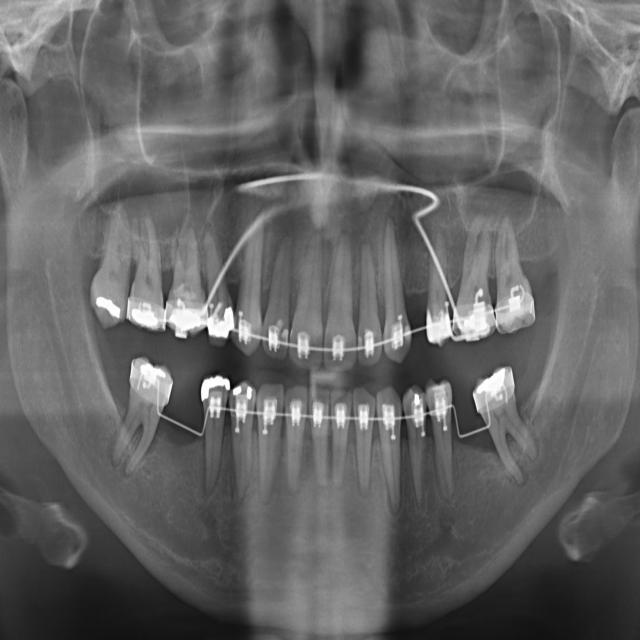3M ESPE Implant: (83, 194, 138, 331)
AGS Medikal Implant: (350, 242, 386, 364)
AMerOss Implant: (376, 224, 417, 360)
Anthogyr Implant: (426, 237, 454, 339)
Bicon Implant: (455, 218, 498, 335)
BioHorizons Implant: (476, 216, 538, 330)
Blue Sky Bio Implant: (470, 368, 543, 479)
Caries: (127, 220, 164, 330)
Composite filling: (428, 385, 453, 487)
Cowellmedi Implant: (406, 391, 427, 490)
Crown: (373, 387, 402, 512)
DENTSPLY Implant: (350, 388, 382, 495)
Dentatus Implant: (331, 393, 354, 490)
Dentis Implant: (305, 386, 335, 486)
Dentium Implant: (285, 385, 312, 488)
Euroteknika Implant: (256, 385, 287, 504)
Filling: (228, 382, 255, 489)
Frontier Implant: (197, 379, 229, 482)
Hiossen Implant: (165, 226, 209, 335)
Implant: (112, 357, 175, 477)
MIS Implant: (199, 227, 233, 337)
Maxilla: (235, 205, 273, 352)
Megagen Implant: (262, 241, 295, 352)
Neodent Implant: (289, 232, 330, 365)
Neoss Implant: (320, 237, 358, 371)
